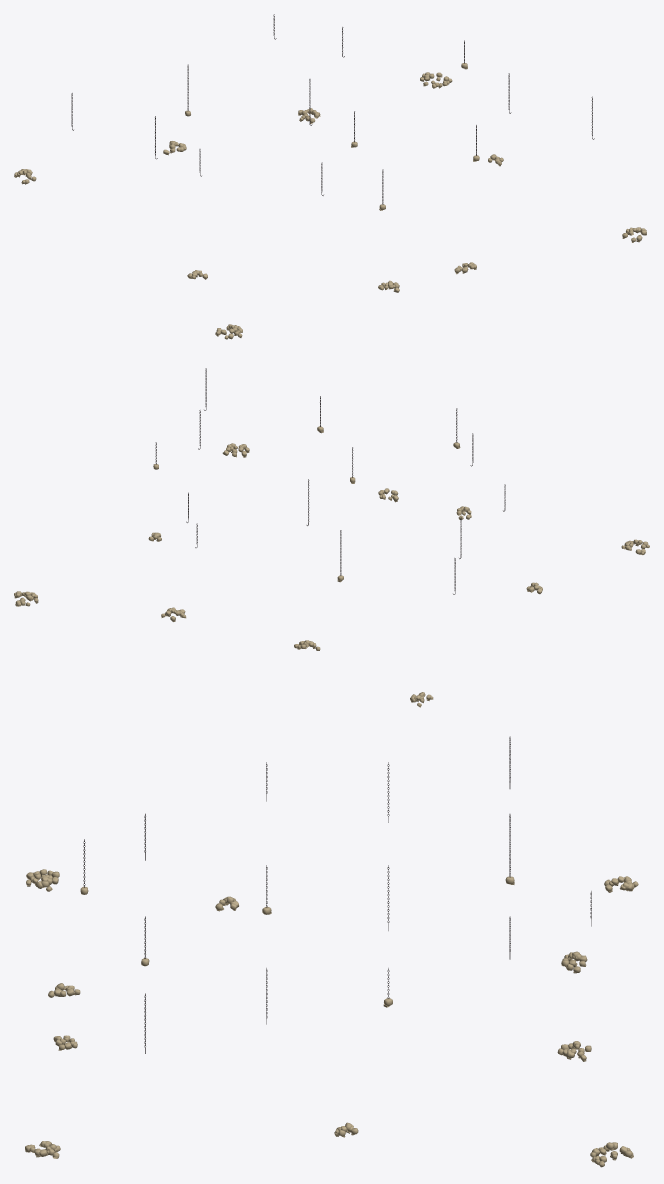
Rendered from tb_hellx3_p1.glb.
The picture shows the model from 3 angles, top to bottom: view 1: azimuth 30°, elevation 25°; view 2: azimuth 150°, elevation 25°; view 3: azimuth 270°, elevation 25°; orthographic projection. The views are drawn at different scales.
Parts seen in each view (by area): view 1: tb_hellx3_p1; view 2: tb_hellx3_p1; view 3: tb_hellx3_p1.
Boxes of the visible parts, bbox=[...] form: tb_hellx3_p1: bbox=[14, 14, 646, 339]; tb_hellx3_p1: bbox=[14, 368, 649, 707]; tb_hellx3_p1: bbox=[25, 736, 638, 1167].
Bounding box in the file's own units: 69.19 × 17.25 × 62.76.
